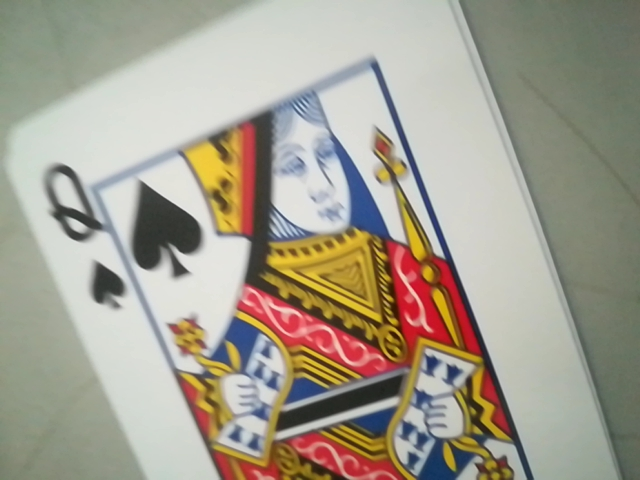ht q: (22, 156, 133, 314)
